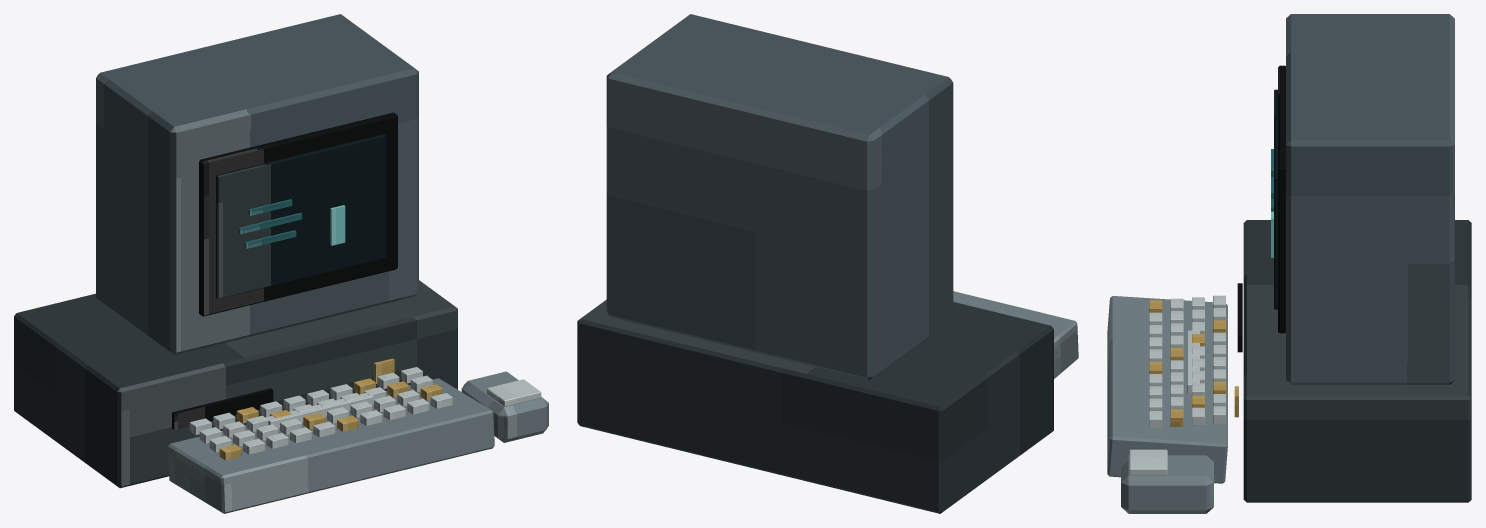
The model's file is retro_computer_desktop_charcoal.glb.
3 renders of one model, left to right at view 1: azimuth 30°, elevation 25°; view 2: azimuth 150°, elevation 25°; view 3: azimuth 270°, elevation 25°, orthographic. The views are drawn at different scales.
Parts seen in each view (by area): view 1: MonitorShell, DesktopCase, MonitorGlow, KeyboardBody, MonitorFace, Mouse, FloppySlot, MouseButton, SpaceBar, ScreenGlyph_4; view 2: MonitorShell, DesktopCase, KeyboardBody; view 3: MonitorShell, DesktopCase, KeyboardBody, Mouse, MonitorFace, MouseButton, MonitorGlow, SpaceBar, FloppySlot.
Part boxes in pixels (bbox=[...]): MonitorShell: bbox=[96, 14, 418, 354]; DesktopCase: bbox=[14, 280, 457, 488]; MonitorGlow: bbox=[216, 134, 386, 298]; KeyboardBody: bbox=[168, 378, 494, 513]; MonitorFace: bbox=[199, 112, 397, 316]; Mouse: bbox=[461, 371, 548, 442]; FloppySlot: bbox=[172, 388, 273, 429]; MouseButton: bbox=[487, 379, 541, 406]; SpaceBar: bbox=[265, 393, 373, 428]; ScreenGlyph_4: bbox=[330, 205, 345, 245]; MonitorShell: bbox=[606, 14, 953, 380]; DesktopCase: bbox=[577, 299, 1053, 513]; KeyboardBody: bbox=[953, 291, 1078, 378]; MonitorShell: bbox=[1286, 14, 1454, 384]; DesktopCase: bbox=[1243, 220, 1471, 502]; KeyboardBody: bbox=[1107, 296, 1227, 483]; Mouse: bbox=[1121, 455, 1213, 513]; MonitorFace: bbox=[1278, 65, 1285, 333]; MouseButton: bbox=[1129, 449, 1167, 475]; MonitorGlow: bbox=[1274, 89, 1277, 309]; SpaceBar: bbox=[1187, 330, 1199, 393]; FloppySlot: bbox=[1237, 283, 1242, 352].
Size of the model in its own units: 1.1 by 0.92 by 0.8629.
Materials: 1 (1 with a texture image).
